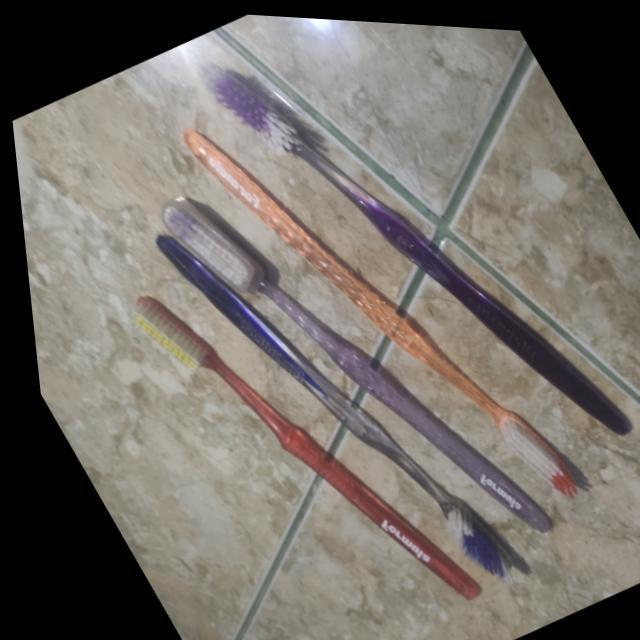toothbrush: (188, 42, 636, 450), (164, 99, 592, 500), (128, 194, 517, 588), (147, 173, 561, 543), (114, 264, 477, 618)
